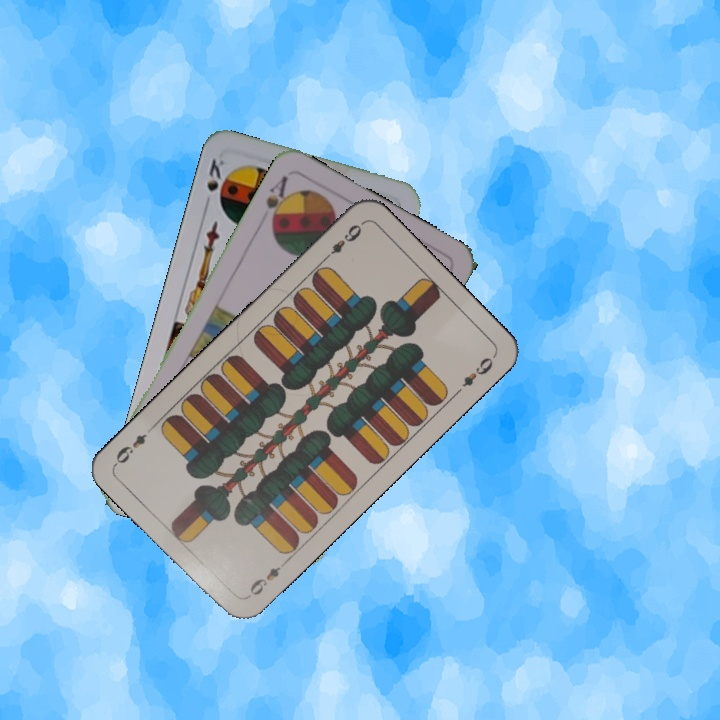E9: (243, 556, 291, 601), (319, 220, 365, 264)
SA: (262, 171, 294, 230)
SK: (202, 153, 227, 194)
